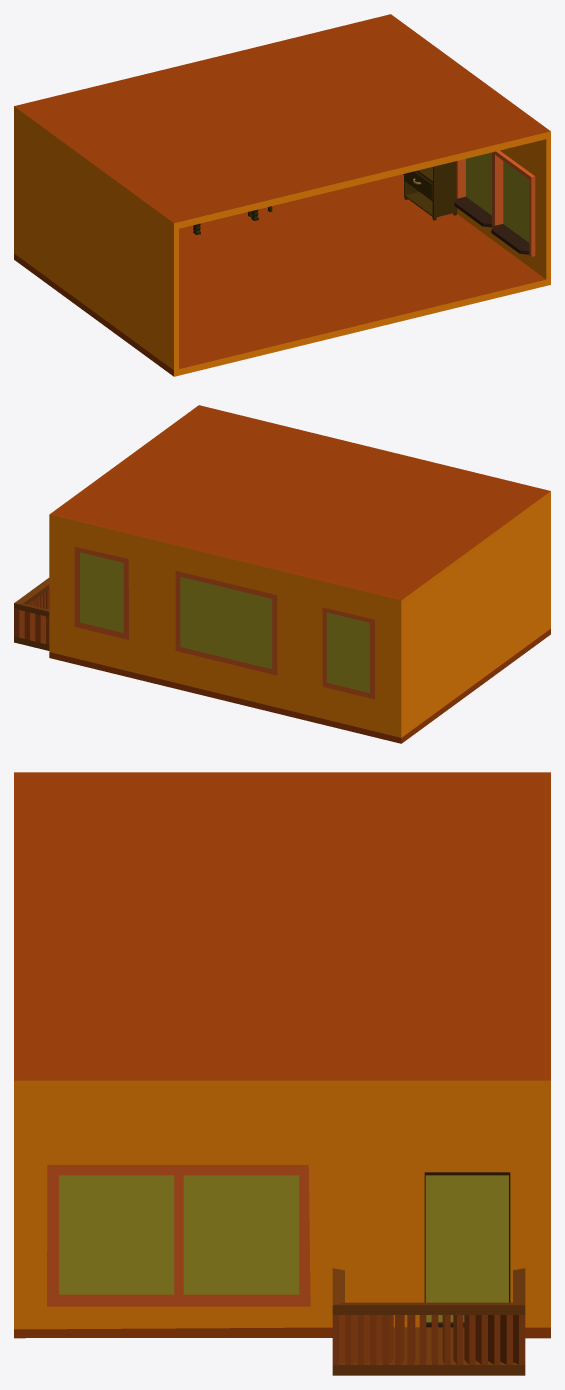
File: yo wodhnurng ey.fbx
The picture shows the model from 3 angles, top to bottom: view 1: azimuth 30°, elevation 25°; view 2: azimuth 150°, elevation 25°; view 3: azimuth 270°, elevation 25°; orthographic projection. The views are drawn at different scales.
Parts seen in each view (by area): view 1: Zimmer; view 2: Zimmer; view 3: Zimmer.
Boxes of the visible parts, box(x1,y1,x2,y2) form: Zimmer: box(14, 14, 550, 376); Zimmer: box(14, 405, 550, 743); Zimmer: box(14, 772, 550, 1375).
Size of the model in its own units: 3379 by 1175 by 2218.
